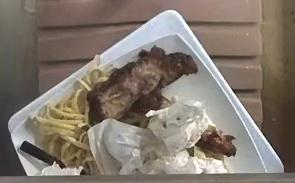pasta: (29, 69, 110, 173)
ribs: (96, 45, 196, 125)
